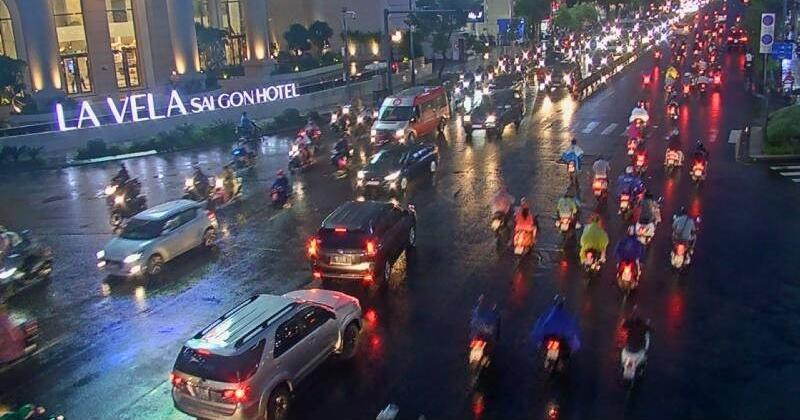xe hoi: (172, 289, 362, 420), (97, 198, 217, 277), (308, 198, 416, 278), (357, 141, 438, 193), (462, 91, 521, 134)
xe may: (614, 223, 645, 296), (622, 305, 650, 383), (510, 194, 538, 260), (579, 212, 608, 274), (557, 138, 585, 184)
xe van: (369, 84, 449, 143)
